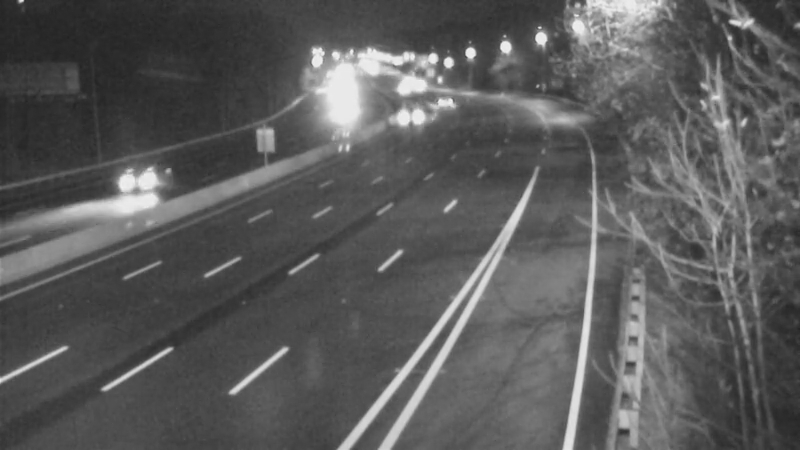vehicle: (87, 142, 167, 222), (415, 74, 465, 124), (384, 88, 434, 138)
